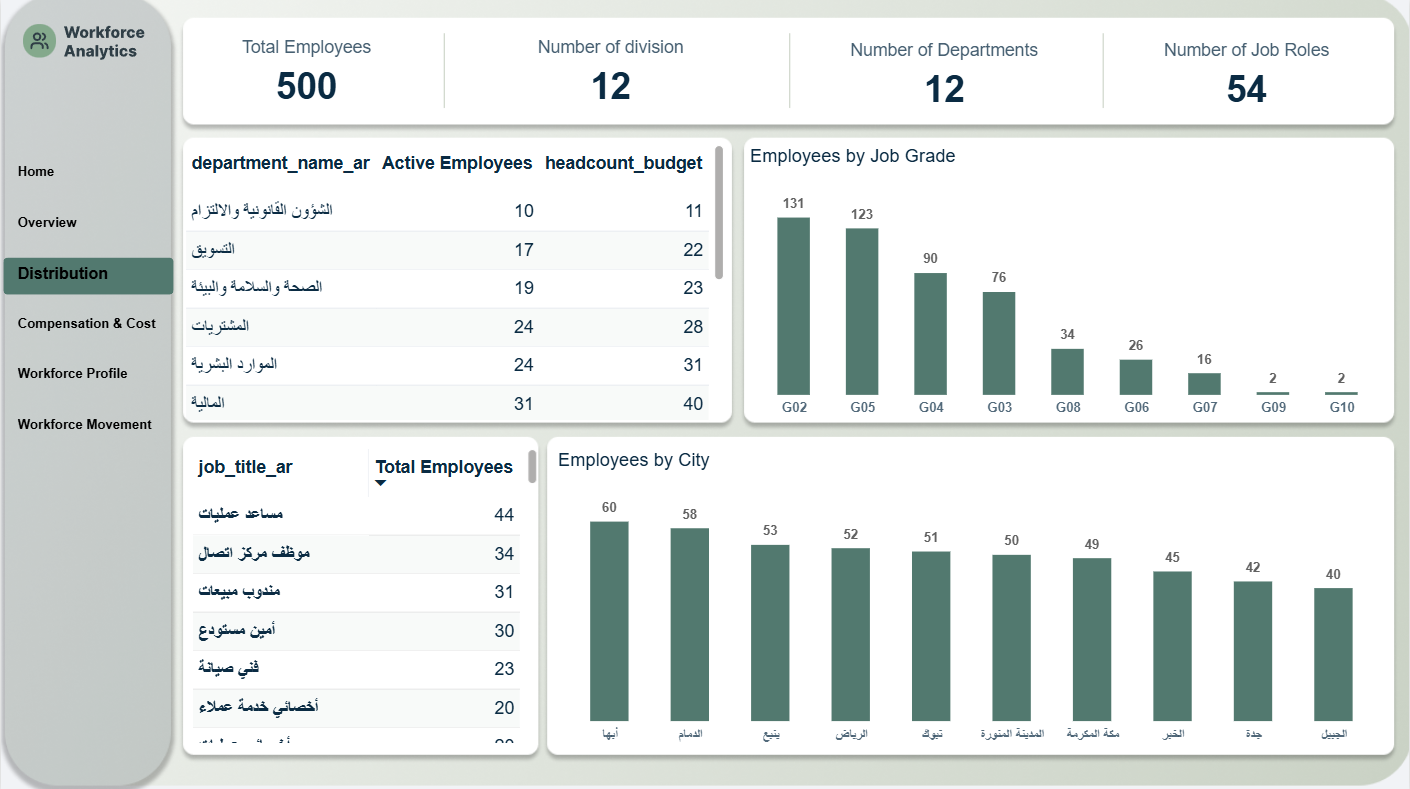

What the dashboard file says about the page in this screenshot:
{"tool":"powerbi","page":{"name":" Distribution","canvas":[1280,720],"ordinal":2},"visuals":[{"type":"pivotTable","fields":{"Rows":["employees.job_title_ar"],"Values":["measures (2).Total Employees"]},"box":[154.3,388.4,352.6,306.7],"z":0},{"type":"clusteredColumnChart","title":"Employees by Job Grade","fields":{"Y":["measures (2).Total Employees"],"Category":["employees.job_grade"]},"box":[661.1,112,618.9,290.2],"z":1000},{"type":"clusteredColumnChart","title":"Employees by City","fields":{"Y":["measures (2).Total Employees"],"Category":["employees.work_city_ar"]},"box":[486.7,388.4,793.3,310.4],"z":2000},{"type":"tableEx","fields":{"Values":["departments.department_name_ar","measures (2).Active Employees","departments.headcount_budget"]},"box":[146.9,112,529.8,290.2],"z":3000},{"type":"cardVisual","fields":{"Data":["measures (2).Total Employees"]},"box":[181.8,0,192.4,109.1],"z":4000},{"type":"cardVisual","fields":{"Data":["measures (2).Number of Departments"]},"box":[735.5,2.8,244.2,109.3],"z":5000},{"type":"cardVisual","fields":{"Data":["measures (2).Number of Job Roles"]},"box":[1036.6,2.7,192.4,109.1],"z":6000},{"type":"cardVisual","fields":{"Data":["measures (2).Measure"]},"box":[458.2,0,192.4,109.1],"z":7000},{"type":"image","box":[0,0,197.3,76.4],"z":7001},{"type":"pageNavigator","box":[0,140,159.1,270],"z":7002}]}

Visuals, with their boxes on the page's 1280x720 design canvas (x1, y1, x2, y2). These are canvas units, not pixel positions in the 1410x789 screenshot, which may show the page scaled, cropped or inside an application window:
pivotTable - employees.job_title_ar x measures (2).Total Employees: [154, 388, 507, 695]
"Employees by Job Grade" clusteredColumnChart: [661, 112, 1280, 402]
"Employees by City" clusteredColumnChart: [487, 388, 1280, 699]
tableEx - departments.department_name_ar x measures (2).Active Employees: [147, 112, 677, 402]
cardVisual - measures (2).Total Employees: [182, 0, 374, 109]
cardVisual - measures (2).Number of Departments: [736, 3, 980, 112]
cardVisual - measures (2).Number of Job Roles: [1037, 3, 1229, 112]
cardVisual - measures (2).Measure: [458, 0, 651, 109]
image: [0, 0, 197, 76]
pageNavigator: [0, 140, 159, 410]
